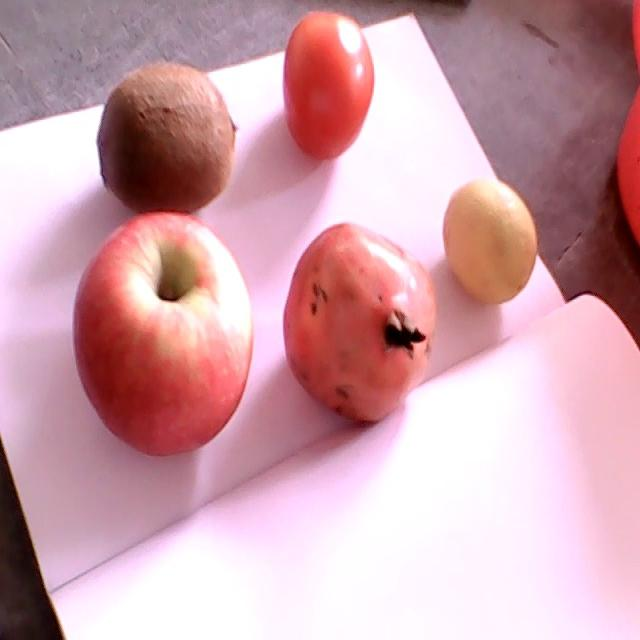apple: (73, 210, 252, 456)
kiwi: (98, 63, 236, 214)
lemon: (443, 179, 539, 304)
pomegranate: (281, 222, 436, 422)
tomato: (283, 11, 374, 160)
